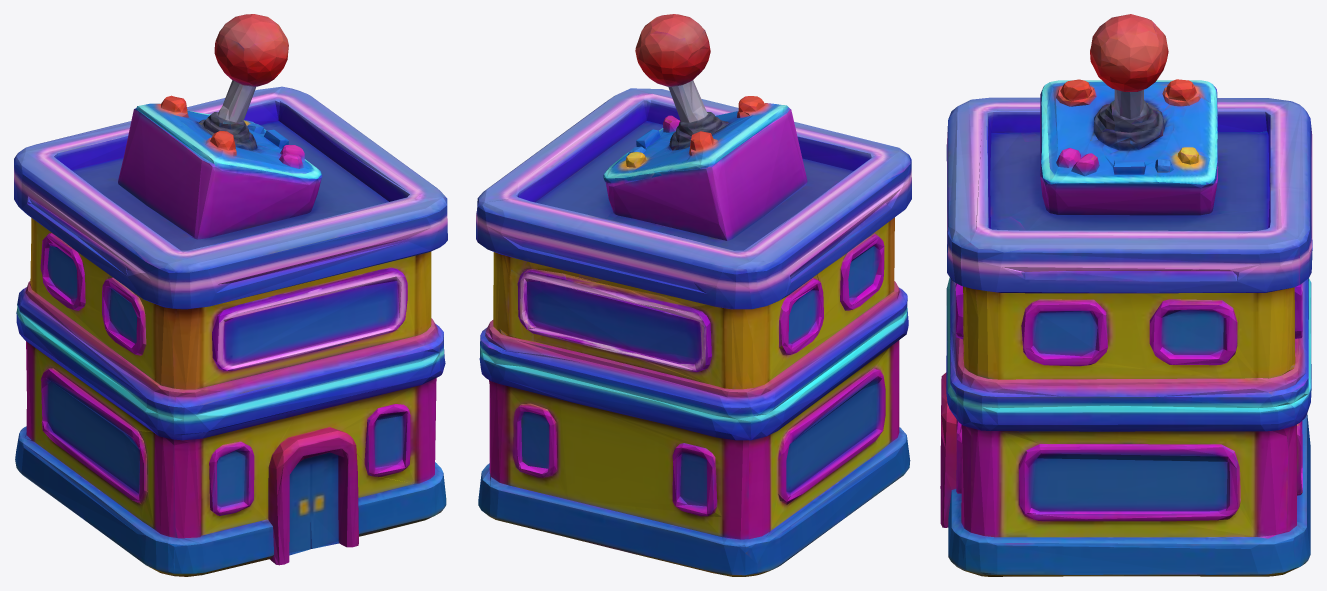
File: b-arcade.glb
3 views of the same model, side by side, from view 1: azimuth 30°, elevation 25°; view 2: azimuth 150°, elevation 25°; view 3: azimuth 270°, elevation 25° (orthographic). The views are drawn at different scales.
Parts seen in each view (by area): view 1: geometry_0; view 2: geometry_0; view 3: geometry_0.
Boxes of the visible parts, <box> form: geometry_0: <box>14,14,447,576</box>; geometry_0: <box>476,14,911,576</box>; geometry_0: <box>940,14,1312,576</box>.
Size of the model in its own units: 0.6746 by 1 by 0.6746.
1 material, 1 textured.
